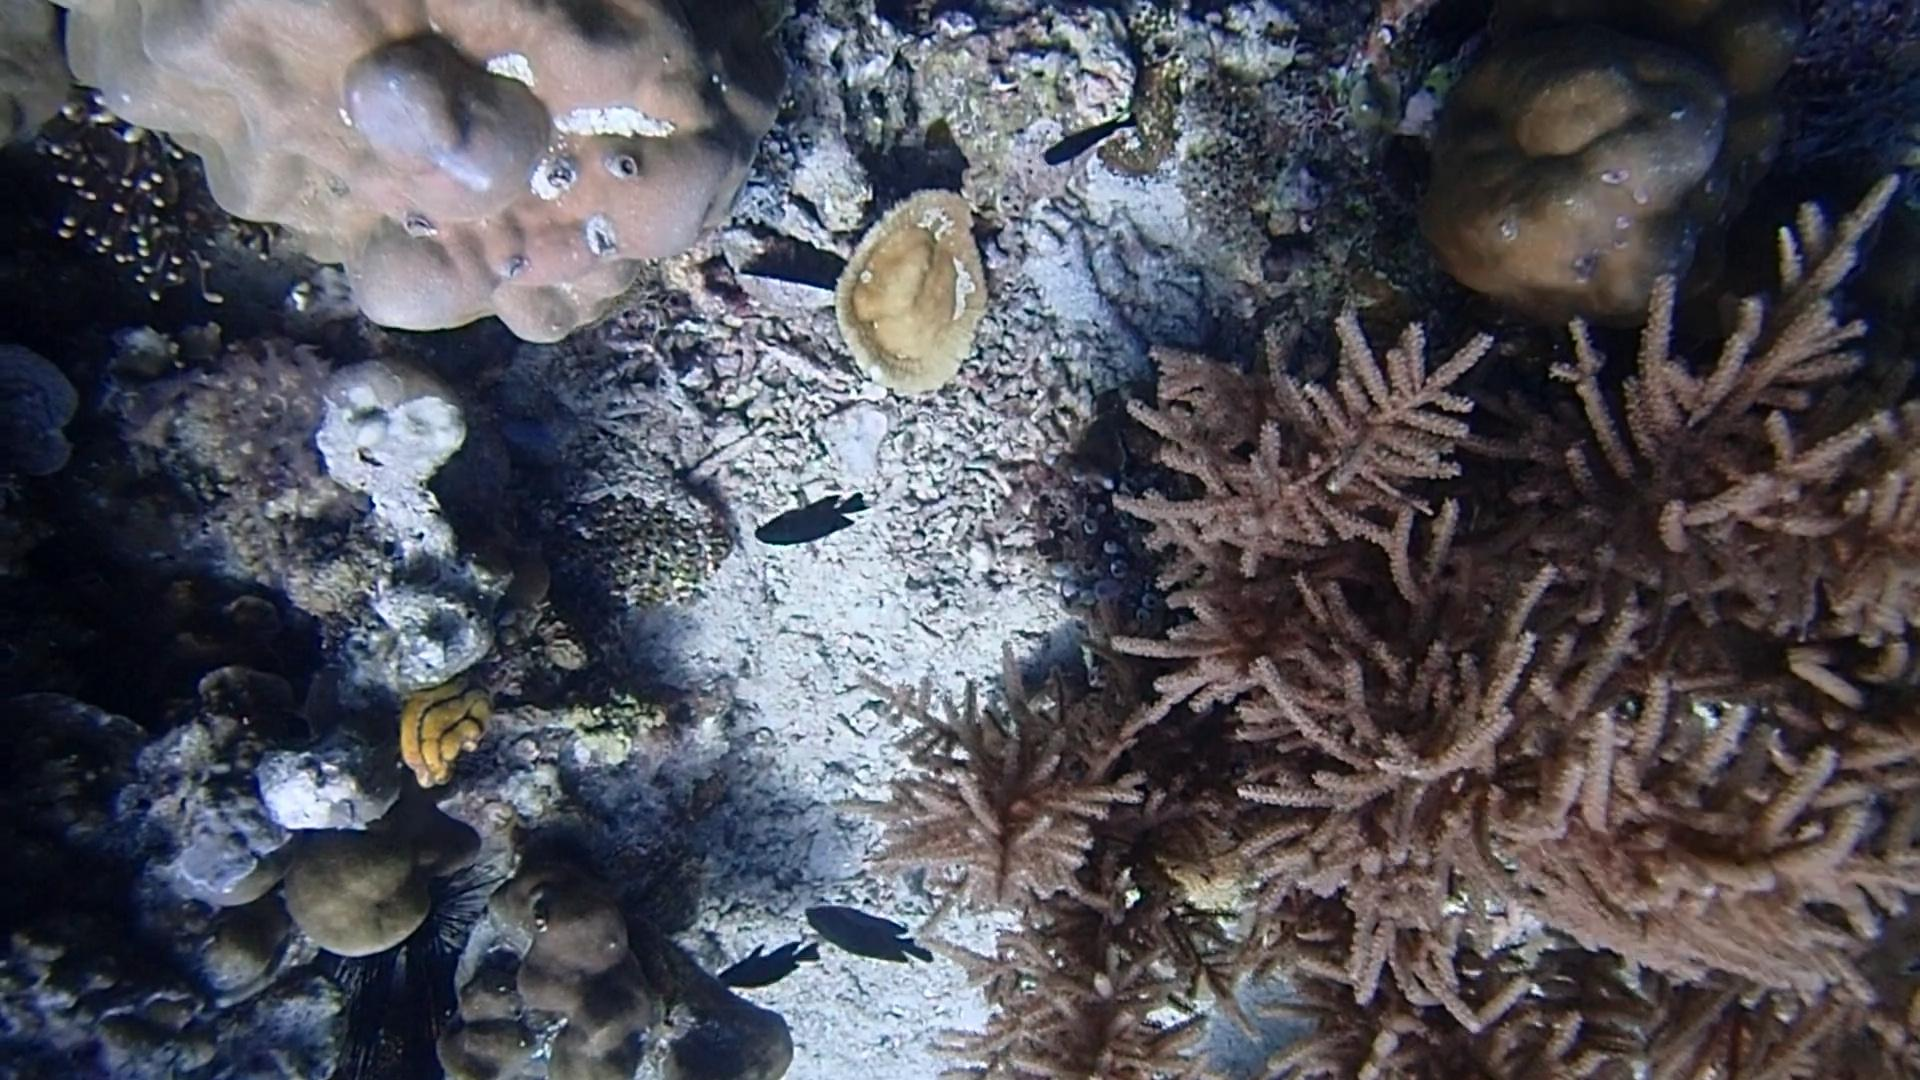Dark Fish: (791, 897, 955, 980), (750, 477, 876, 567), (708, 930, 829, 1004), (1033, 103, 1155, 175)
